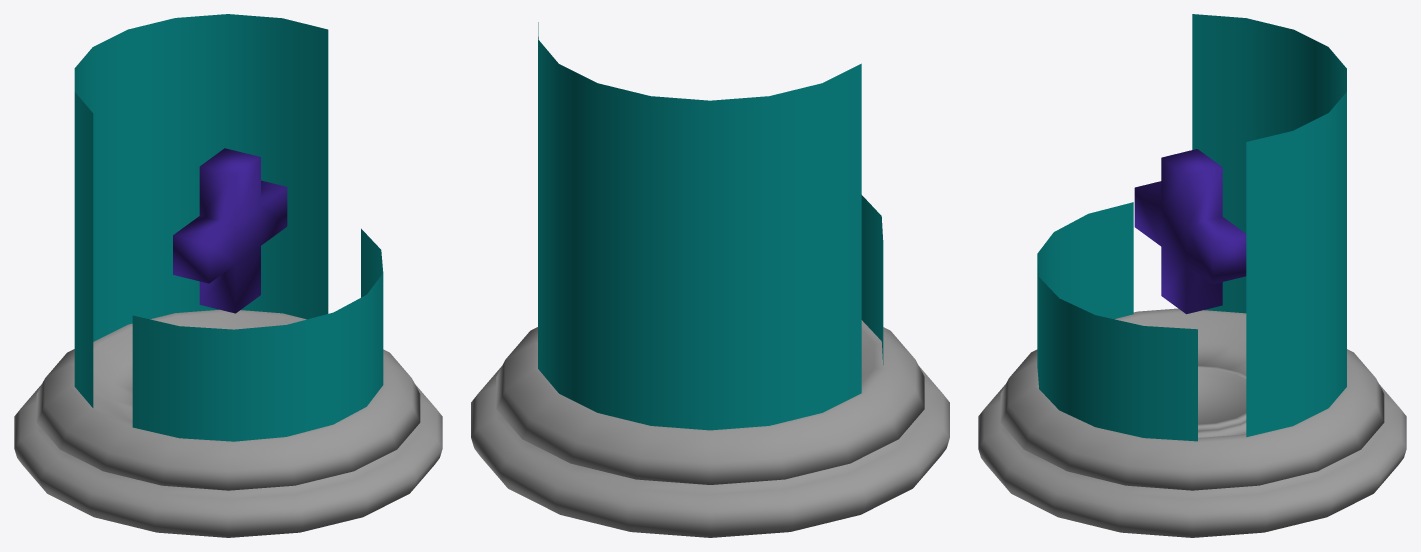
The picture shows the model from 3 angles, left to right: view 1: azimuth 30°, elevation 25°; view 2: azimuth 150°, elevation 25°; view 3: azimuth 270°, elevation 25°; orthographic projection. The views are drawn at different scales.
Parts seen in each view (by area): view 1: 1_low001; view 2: 1_low001; view 3: 1_low001.
Part boxes in pixels (x1=…): 1_low001: x1=14, y1=14, x2=442, y2=537; 1_low001: x1=471, y1=22, x2=949, y2=537; 1_low001: x1=978, y1=14, x2=1406, y2=537.
Size of the model in its own units: 25.33 by 23.73 by 24.95.
